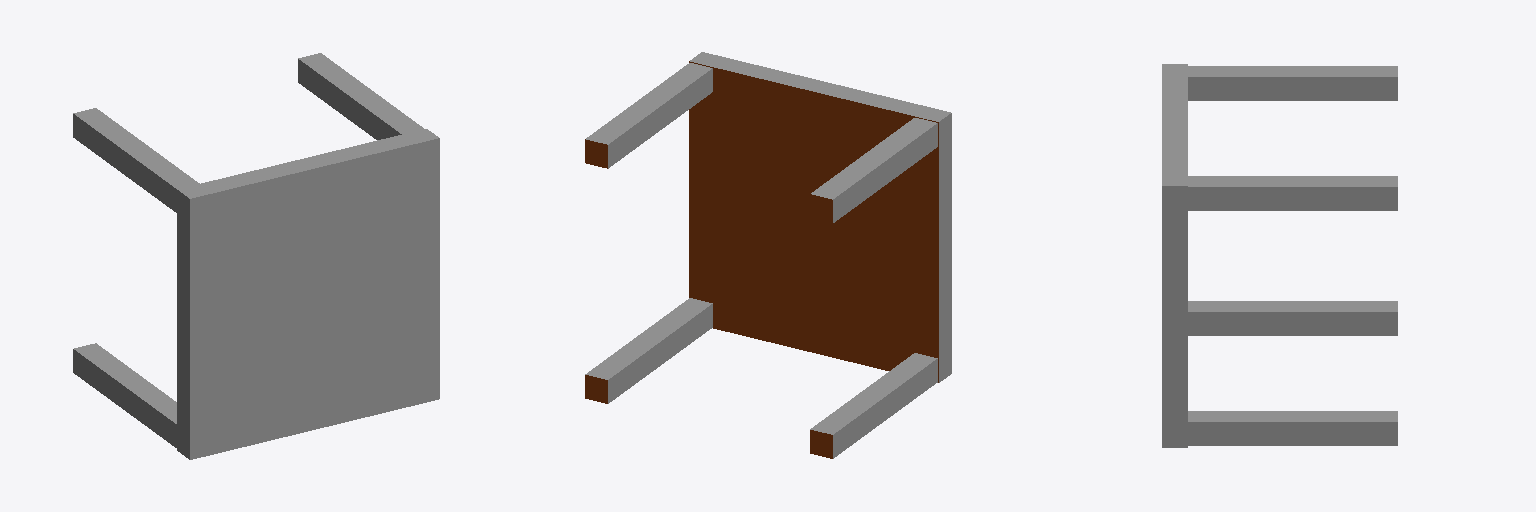
File: lack_updated.obj
The picture shows the model from 3 angles: view 1: azimuth 30°, elevation 25°; view 2: azimuth 150°, elevation 25°; view 3: azimuth 270°, elevation 25°; orthographic projection.
Visible parts, largest first — view 1: Body1, Body5, Body4, Body3; view 2: Body1, Body4, Body2, Body3, Body5; view 3: Body1, Body4, Body2, Body3, Body5.
Boxes of the visible parts, x1,y1,x2,y2 form: Body1: [177, 129, 439, 459]; Body5: [73, 108, 199, 212]; Body4: [73, 343, 176, 447]; Body3: [298, 53, 423, 139]; Body1: [689, 52, 951, 382]; Body4: [810, 353, 937, 458]; Body2: [585, 298, 712, 403]; Body3: [585, 63, 712, 168]; Body5: [810, 118, 937, 223]; Body1: [1162, 64, 1187, 447]; Body4: [1188, 301, 1397, 335]; Body2: [1188, 411, 1397, 445]; Body3: [1188, 176, 1397, 210]; Body5: [1188, 66, 1397, 100].
Bounding box in the file's own units: 550 × 550 × 450.